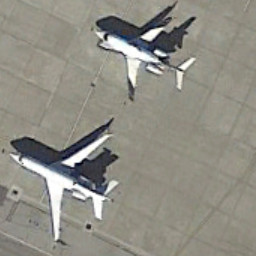Airplane: (5, 118, 125, 247), (84, 13, 208, 111)
